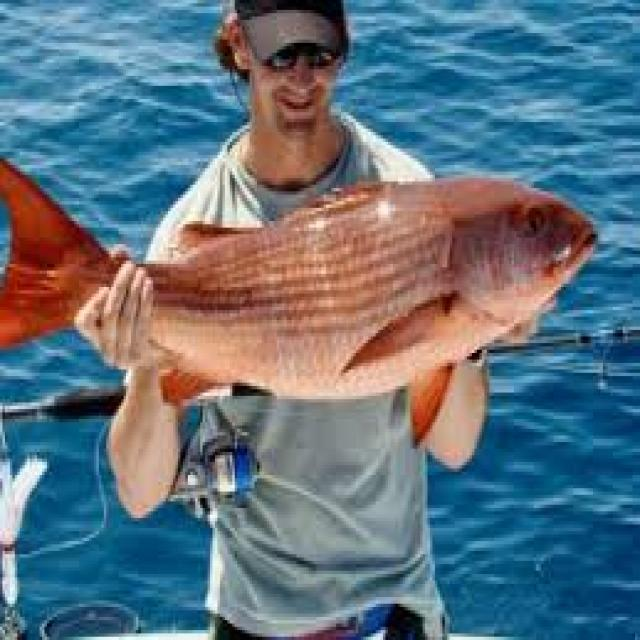northern-red-snapper: (0, 138, 609, 396)
